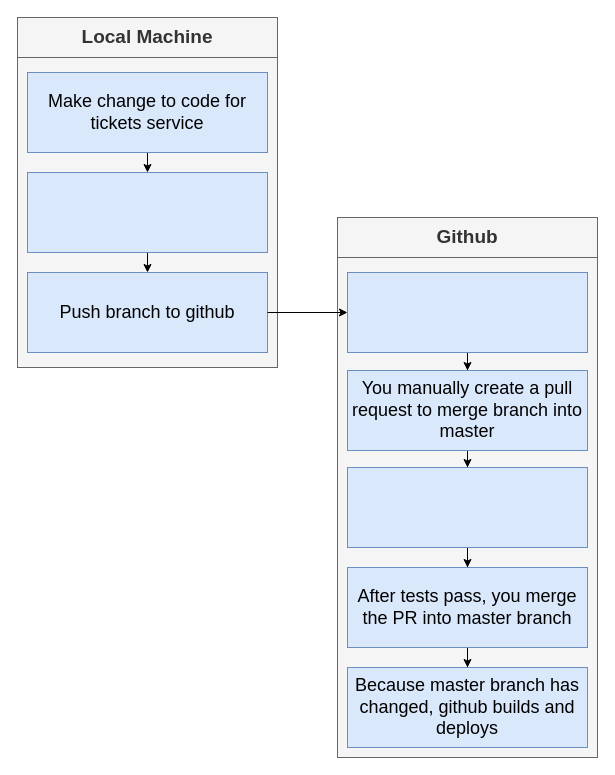
The diagram is 615 pixels wide and 775 high, and some of its shapes have lost their labels. Here are the shapes that lost their labels. From the top down, the box of each, then its label:
(26, 172, 268, 252): Commit code to a git branch (any besides master!)
(346, 272, 588, 352): Github receives updated branch
(346, 466, 588, 548): Github automatically runs tests for project
